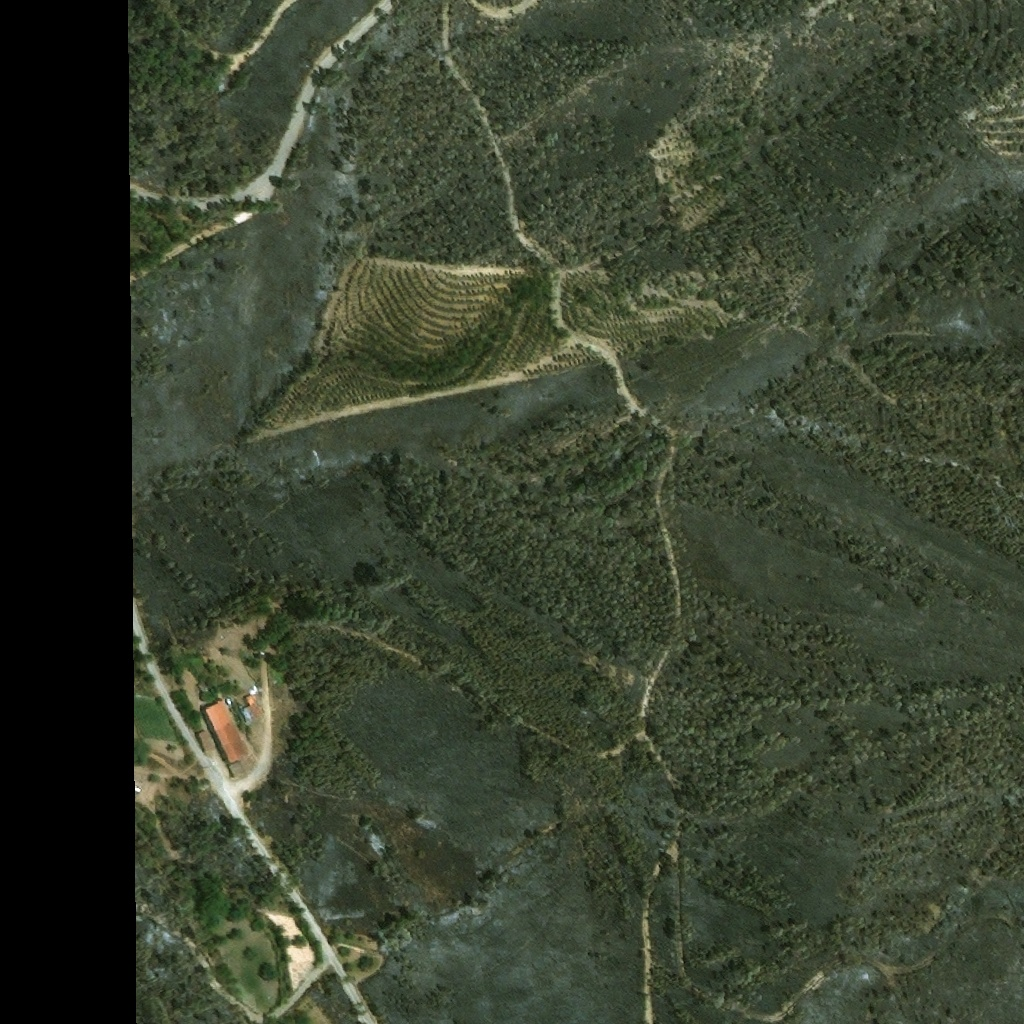0 no-damage: (200, 696, 250, 766), (241, 692, 266, 722), (195, 730, 212, 755)
